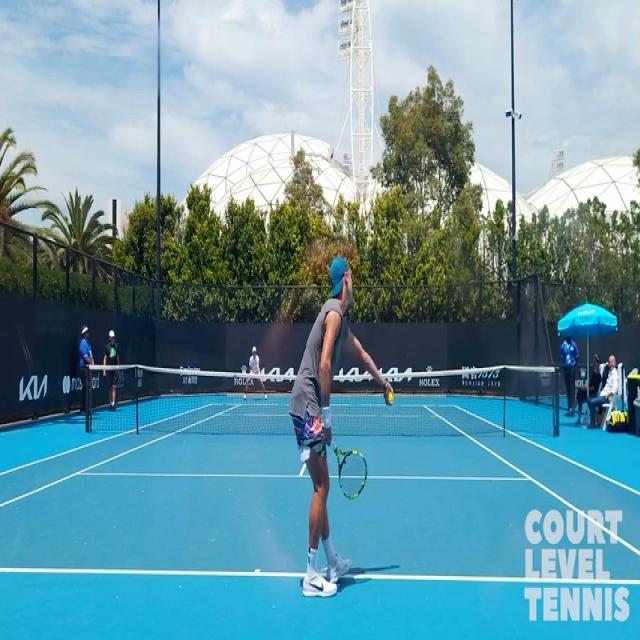serve_ready: (282, 255, 398, 601)
